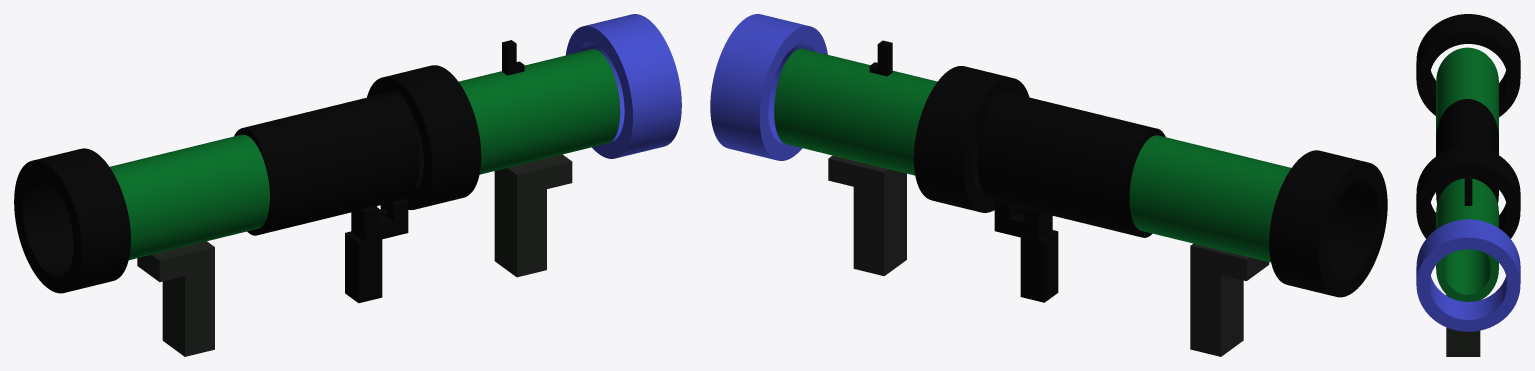
File: Rocket.fbx
The picture shows the model from 3 angles, left to right: view 1: azimuth 30°, elevation 25°; view 2: azimuth 150°, elevation 25°; view 3: azimuth 270°, elevation 25°; orthographic projection. The views are drawn at different scales.
Visible parts, largest first — view 1: root (×4), node_id134, node_id133, node_id135, node_id94 (×2), node_id83 (×2), node_id123 (×3); view 2: root (×4), node_id134, node_id133, node_id135, node_id94 (×2), node_id83 (×2), node_id123 (×2); view 3: root (×3), node_id135, node_id133, node_id134, node_id94, node_id97.
Boxes of the visible parts, x1,y1,x2,y2 form: root (×4): (14,14,681,303); node_id134: (234,91,419,235); node_id133: (110,134,269,259); node_id135: (459,49,620,174); node_id94 (×2): (494,154,572,277); node_id83 (×2): (137,241,214,356); node_id123 (×3): (351,199,408,243); root (×4): (710,14,1387,302); node_id134: (977,91,1165,237); node_id133: (1129,135,1291,262); node_id135: (774,48,937,175); node_id94 (×2): (828,155,906,276); node_id83 (×2): (1190,243,1269,356); node_id123 (×2): (994,201,1052,239); root (×3): (1416,14,1520,331); node_id135: (1436,178,1498,301); node_id133: (1436,47,1498,137); node_id134: (1436,99,1498,203); node_id94: (1446,327,1480,356); node_id97: (1464,177,1472,198).
Size of the model in its own units: 0.2725 by 0.0964 by 0.0536.
Materials: 18 (17 with a texture image).
